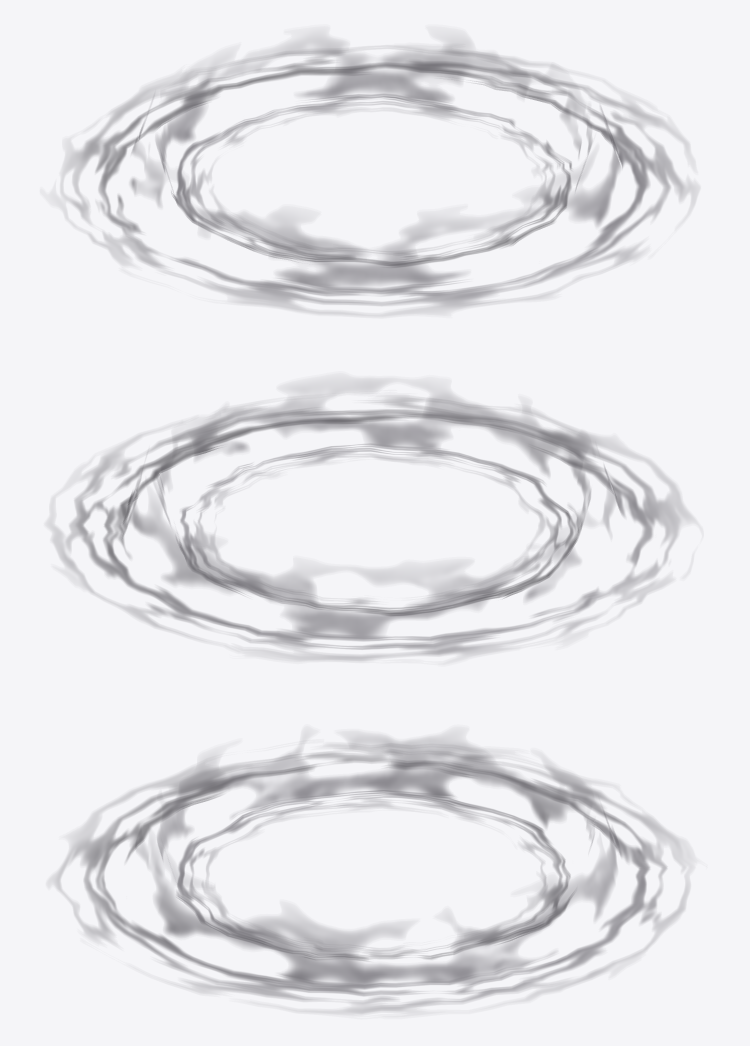
File: fire-wave-impact.glb
3 renders of one model, top to bottom at view 1: azimuth 30°, elevation 25°; view 2: azimuth 150°, elevation 25°; view 3: azimuth 270°, elevation 25°, orthographic.
Visible parts, largest first — view 1: fire-wave-impact; view 2: fire-wave-impact; view 3: fire-wave-impact.
Boxes of the visible parts, bbox=[...] form: fire-wave-impact: bbox=[61, 34, 696, 315]; fire-wave-impact: bbox=[49, 380, 693, 660]; fire-wave-impact: bbox=[53, 734, 688, 1013].
Bounding box in the file's own units: 1.6 × 0.1767 × 1.6.
Materials: 1 (1 with a texture image).
